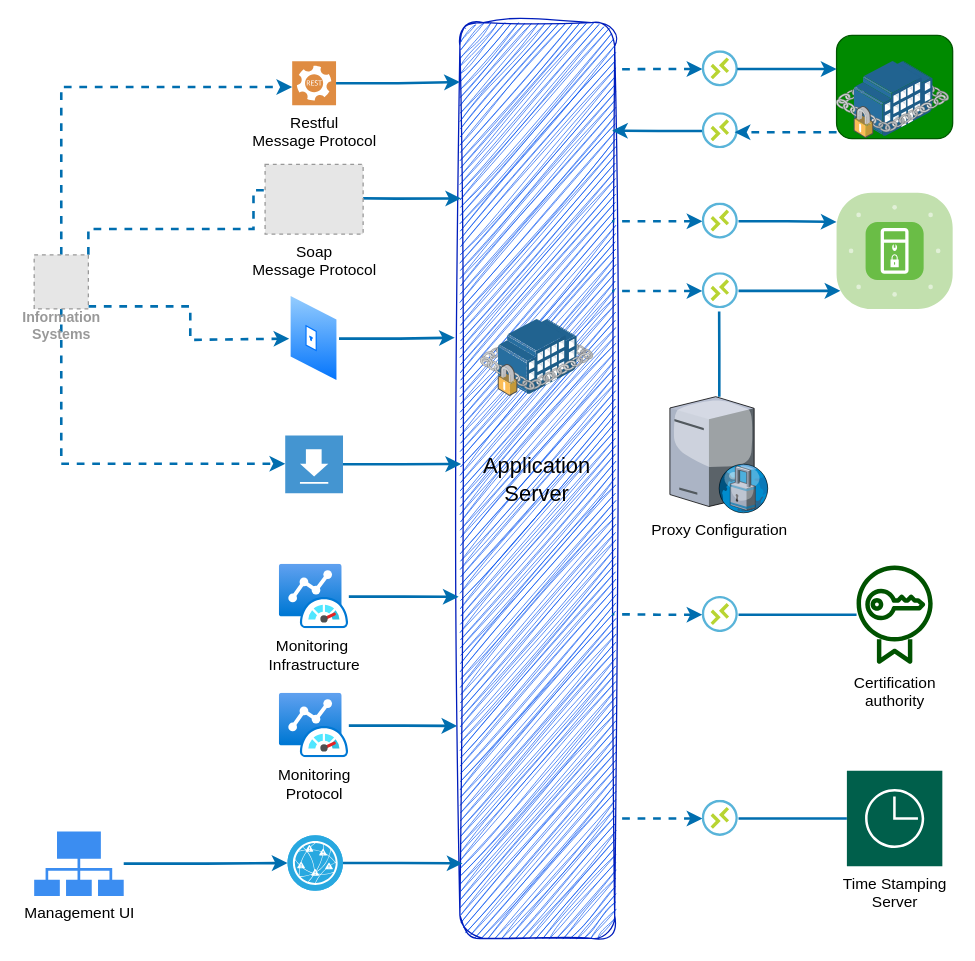
Image size: 975x961. Some labels were removed from this diagram. Grey dashed boxes stand in for pictures. Each missing label, with the centre of its shape:
Central Server: point (894, 250)
Download Signed Document: point (313, 464)
Management APIs: point (314, 862)
Metadata Protocol: point (313, 338)
Security Server: point (892, 99)
